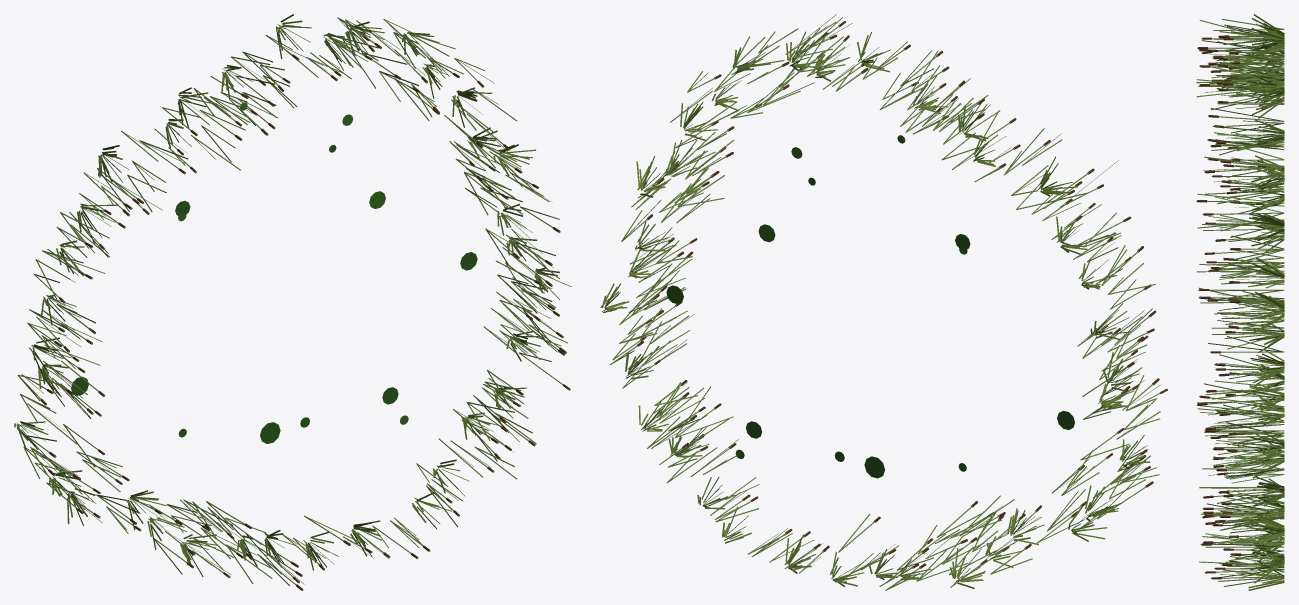
The model's file is forest_random_reeds_00.obj.
3 renders of one model, left to right at view 1: azimuth 30°, elevation 25°; view 2: azimuth 150°, elevation 25°; view 3: azimuth 270°, elevation 25°, orthographic. The views are drawn at different scales.
Parts seen in each view (by area): view 1: stem_0, leaf_0, blade1_0, blade2_0, head_0, blade0_0, lily0_0; view 2: leaf_0, stem_0, blade1_0, blade2_0, head_0, blade0_0, lily0_0; view 3: leaf_0, stem_0, blade2_0, blade1_0, head_0, blade0_0.
Part boxes in pixels (bbox=[...]): stem_0: bbox=[17, 17, 570, 590]; leaf_0: bbox=[19, 17, 567, 585]; blade1_0: bbox=[14, 14, 532, 570]; blade2_0: bbox=[37, 33, 571, 576]; head_0: bbox=[40, 36, 570, 590]; blade0_0: bbox=[29, 32, 540, 373]; lily0_0: bbox=[71, 144, 477, 443]; leaf_0: bbox=[610, 14, 1160, 590]; stem_0: bbox=[610, 21, 1167, 590]; blade1_0: bbox=[635, 31, 1150, 586]; blade2_0: bbox=[600, 51, 1134, 588]; head_0: bbox=[636, 21, 1167, 568]; blade0_0: bbox=[625, 47, 1139, 391]; lily0_0: bbox=[666, 177, 1074, 478]; leaf_0: bbox=[1196, 19, 1284, 586]; stem_0: bbox=[1196, 29, 1284, 581]; blade2_0: bbox=[1248, 27, 1284, 590]; blade1_0: bbox=[1248, 23, 1284, 583]; head_0: bbox=[1197, 35, 1240, 579]; blade0_0: bbox=[1250, 14, 1284, 506].
Size of the model in its own units: 12.02 by 11.75 by 1.8.
